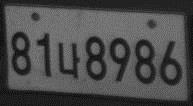1: (35, 31, 51, 78)
6: (159, 38, 183, 87)
8: (133, 37, 157, 85), (84, 35, 107, 80), (10, 30, 31, 75)
9: (108, 37, 132, 81)
나: (56, 40, 81, 80)
